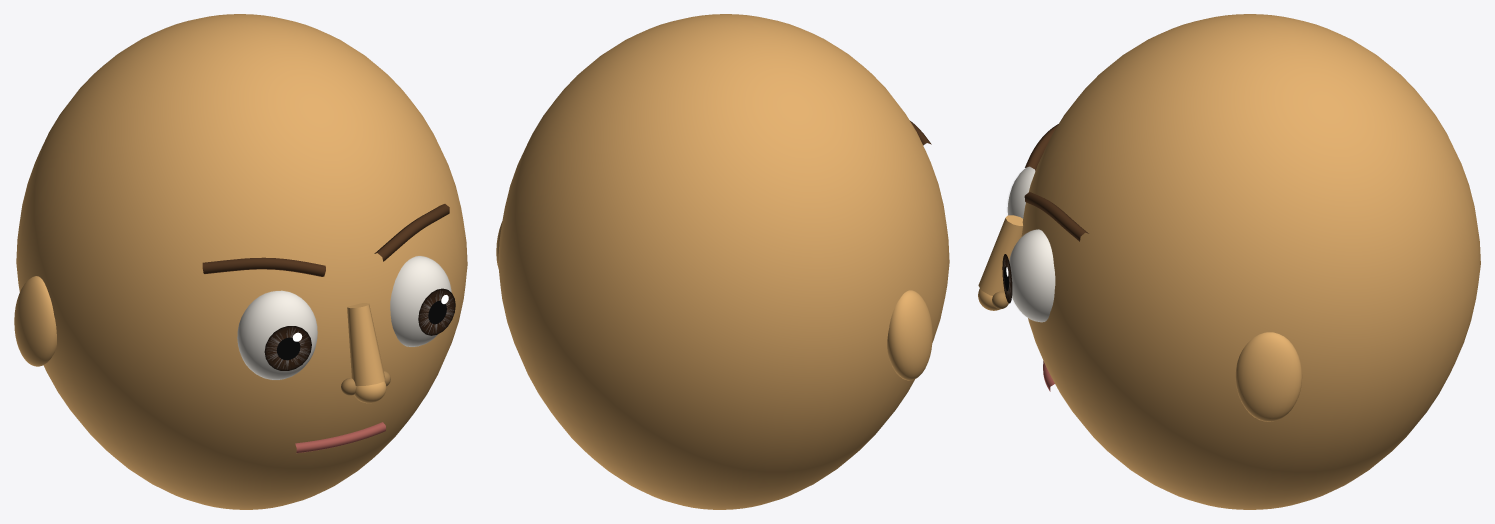
File: 07-longs.glb
3 views of the same model, side by side, from view 1: azimuth 30°, elevation 25°; view 2: azimuth 150°, elevation 25°; view 3: azimuth 270°, elevation 25° (orthographic).
Size of the model in its own units: 0.3087 by 0.321 by 0.3166.
Materials: 9 (1 with a texture image).
